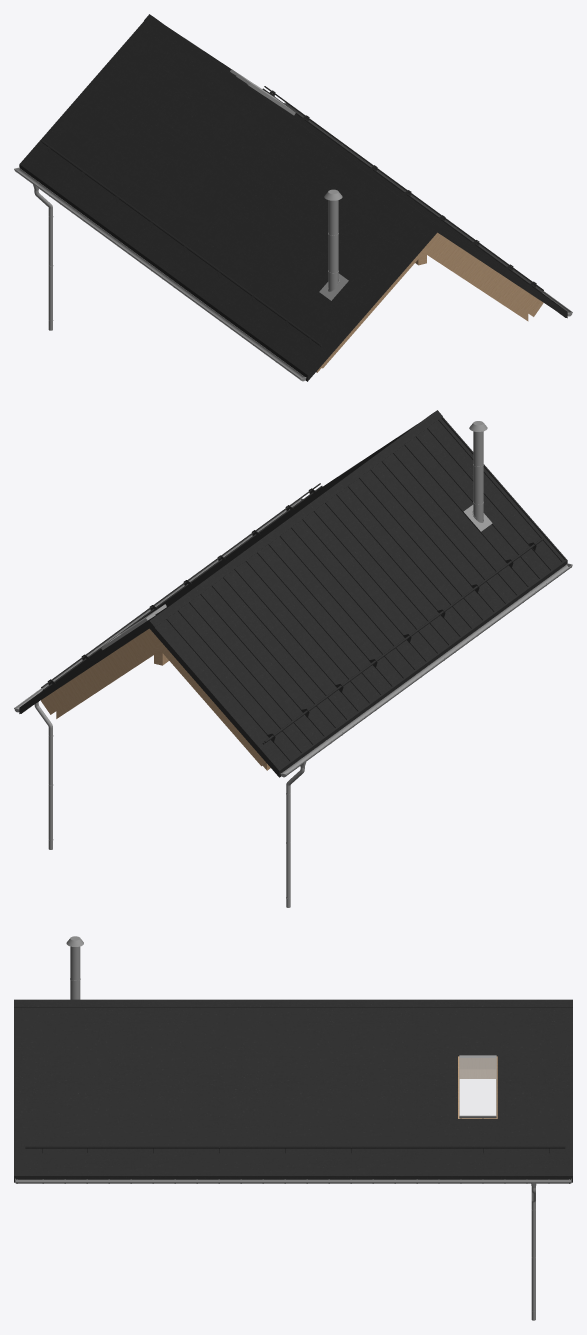
File: Black_Roof.glb
3 views of the same model, one above another, from view 1: azimuth 30°, elevation 25°; view 2: azimuth 150°, elevation 25°; view 3: azimuth 270°, elevation 25° (orthographic). The views are drawn at different scales.
Visible parts, largest first — view 1: Roof, Alumininum_1_Roof, Interior_Wood_Roof; view 2: Roof, Alumininum_1_Roof, Interior_Wood_Roof; view 3: Roof, Alumininum_1_Roof, Glass_Roof, Interior_Wood_Roof.
Part boxes in pixels (<box>): Roof: <box>19,14,567,381</box>; Alumininum_1_Roof: <box>14,69,572,381</box>; Interior_Wood_Roof: <box>316,232,543,372</box>; Roof: <box>19,410,567,777</box>; Alumininum_1_Roof: <box>14,421,572,907</box>; Interior_Wood_Roof: <box>41,628,270,770</box>; Roof: <box>14,999,572,1182</box>; Alumininum_1_Roof: <box>15,936,571,1320</box>; Glass_Roof: <box>459,1056,495,1115</box>; Interior_Wood_Roof: <box>458,1056,497,1118</box>.
Size of the model in its own units: 2.54 by 2.66 by 4.64.
5 materials, 2 textured.
